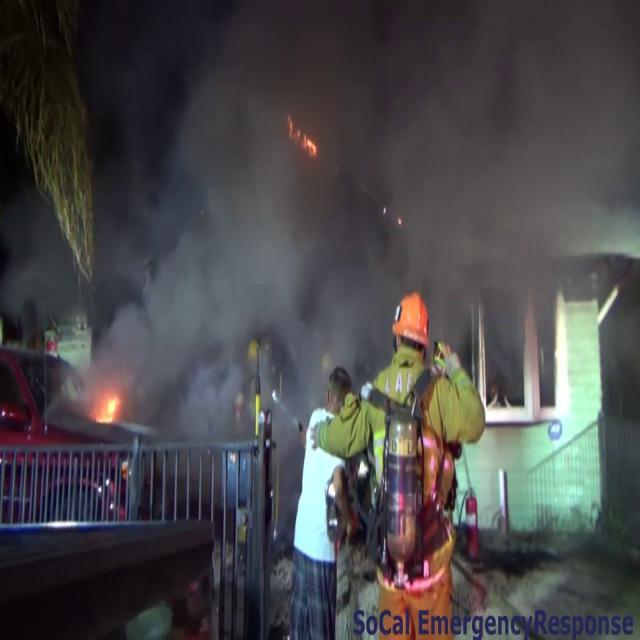Fire: (95, 390, 121, 426)
Smoke: (113, 0, 640, 401)
